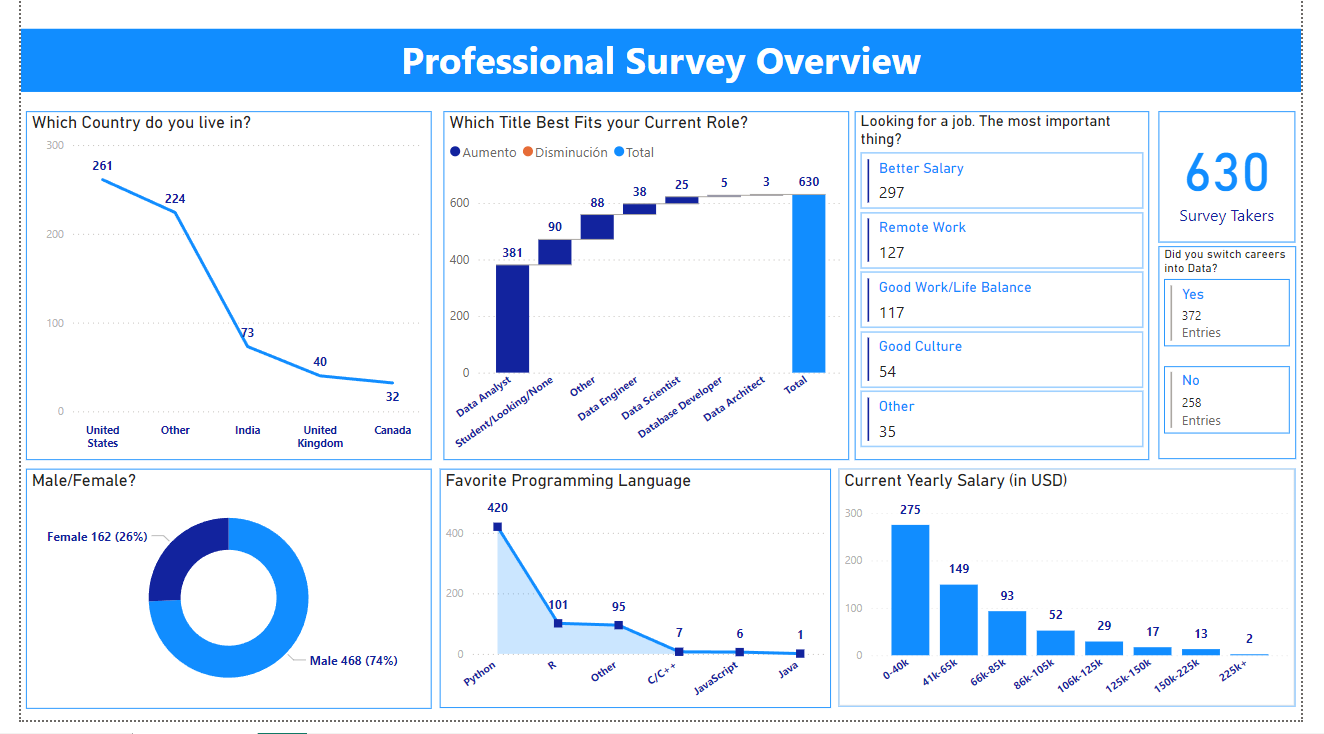

This screenshot's page, from the dashboard's own definition file:
{"tool":"powerbi","page":{"name":"Dashboard","canvas":[1280,720],"ordinal":0},"visuals":[{"type":"donutChart","title":"Male/Female?","fields":{"Category":["Data Professional Survey.Q9 - Male/Female?"],"Y":["Data Professional Survey.Registros"]},"box":[4.9,468.3,406,239.7],"z":0},{"type":"card","fields":{"Values":["Data Professional Survey.Registros"]},"box":[1137.2,111.3,137,130.8],"z":1000},{"type":"lineChart","title":"Favorite Programming Language","fields":{"Category":["Data Professional Survey.Q5 - Favorite Programming Language.1.1"],"Y":["Data Professional Survey.Registros"]},"box":[419.3,468.4,391.1,239.4],"z":2000},{"type":"multiRowCard","title":"Did you switch careers into Data?","fields":{"Values":["Data Professional Survey.Q2 - Did you switch careers into Data?","Data Professional Survey.Registros"]},"box":[1137.3,246.4,137.3,212.7],"z":3000},{"type":"lineClusteredColumnComboChart","title":"Current Yearly Salary (in USD)","fields":{"Y":["Data Professional Survey.Registros"],"Category":["Data Professional Survey.Q3 - Current Yearly Salary (in USD)"]},"box":[817.8,468.4,456.5,237.9],"z":4000},{"type":"multiRowCard","title":"Looking for a job. The most important thing?","fields":{"Values":["Data Professional Survey.Q8 - If you were to look for a new job today, what would be the most important t","Data Professional Survey.Registros"]},"box":[834,111.3,294.7,348.5],"z":5000},{"type":"lineChart","title":"Which Country do you live in?","fields":{"Category":["Data Professional Survey.Q11 - Which Country do you live in?.1"],"Y":["Data Professional Survey.Registros"]},"box":[4.9,111.3,406,348.5],"z":6000},{"type":"waterfallChart","title":"Which Title Best Fits your Current Role?","fields":{"Category":["Data Professional Survey.Q1 - Which Title Best Fits your Current Role?.1"],"Y":["Data Professional Survey.Registros"]},"box":[421.9,111.3,406,348.5],"z":7000},{"type":"textbox","box":[0,28.1,1280.3,63.6],"z":8000}]}

Visuals, with their boxes in screenshot pixels (x1, y1, x2, y2), scaled from the page's 1280x720 canvas onto the 1324x734 screenshot:
"Male/Female?" donutChart: detection(5, 477, 425, 722)
card - Data Professional Survey.Registros: detection(1176, 113, 1318, 247)
"Favorite Programming Language" lineChart: detection(434, 478, 838, 722)
"Did you switch careers into Data?" multiRowCard: detection(1176, 251, 1318, 468)
"Current Yearly Salary (in USD)" lineClusteredColumnComboChart: detection(846, 478, 1318, 720)
"Looking for a job. The most important thing?" multiRowCard: detection(863, 113, 1167, 469)
"Which Country do you live in?" lineChart: detection(5, 113, 425, 469)
"Which Title Best Fits your Current Role?" waterfallChart: detection(436, 113, 856, 469)
textbox: detection(0, 29, 1323, 93)
